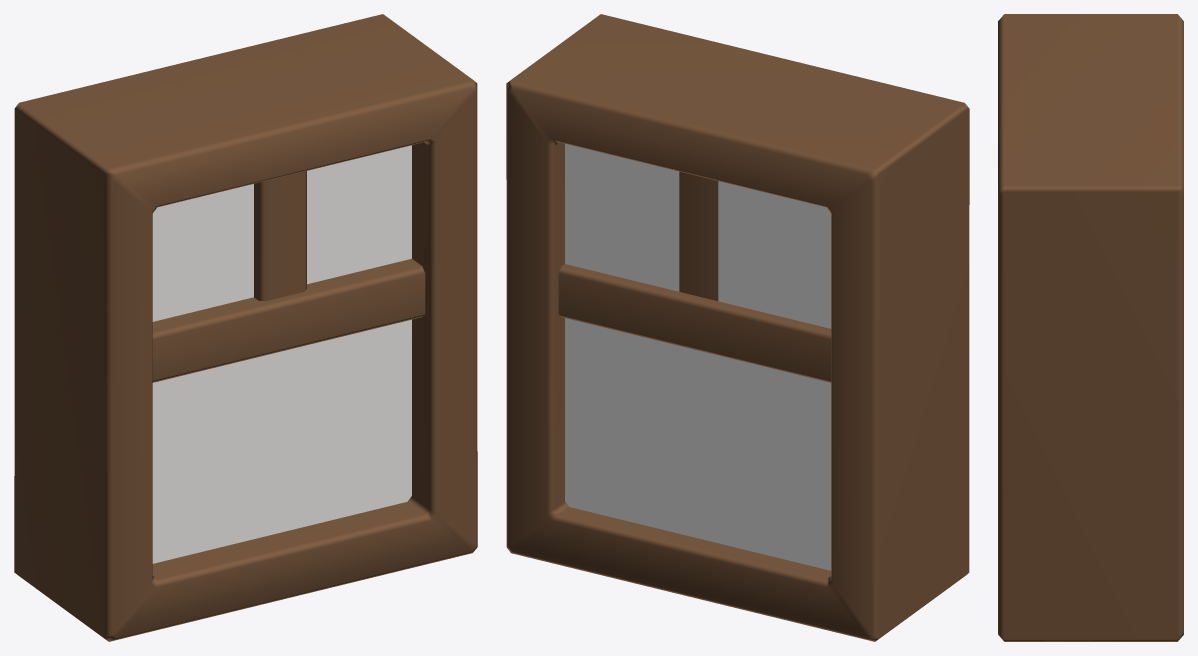
Rendered from Window_18.glb.
3 views of the same model, side by side, from view 1: azimuth 30°, elevation 25°; view 2: azimuth 150°, elevation 25°; view 3: azimuth 270°, elevation 25° (orthographic). The views are drawn at different scales.
Visible parts, largest first — view 1: Window_18; view 2: Window_18; view 3: Window_18.
Part boxes in pixels (bbox=[...]): Window_18: bbox=[14, 14, 477, 641]; Window_18: bbox=[506, 14, 969, 641]; Window_18: bbox=[998, 14, 1183, 641].
Bounding box in the file's own units: 1.25 × 1.52 × 0.5595.
Materials: 2 (2 with a texture image).
